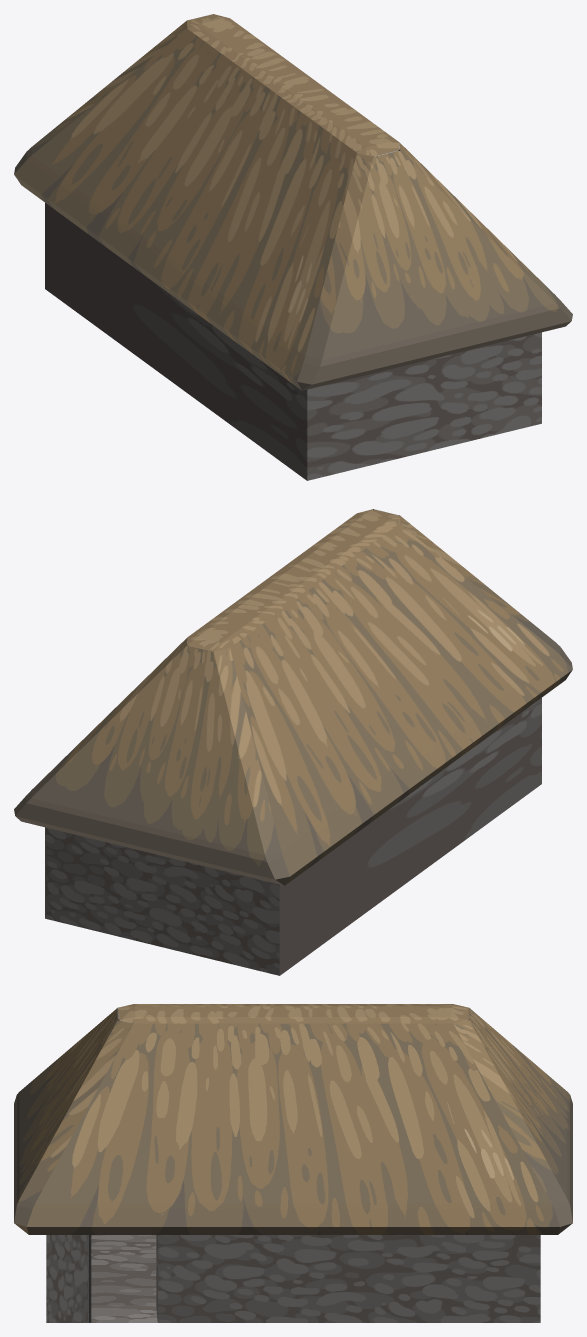
Rendered from YePesantShack.fbx.
3 renders of one model, top to bottom at view 1: azimuth 30°, elevation 25°; view 2: azimuth 150°, elevation 25°; view 3: azimuth 270°, elevation 25°, orthographic. The views are drawn at different scales.
Visible parts, largest first — view 1: Cube.001; view 2: Cube.001; view 3: Cube.001.
Boxes of the visible parts, x1,y1,x2,y2 form: Cube.001: (14,14,572,480); Cube.001: (14,509,572,975); Cube.001: (14,1004,572,1322).
Bounding box in the file's own units: 669 × 633 × 1245.
Materials: 2 (2 with a texture image).
